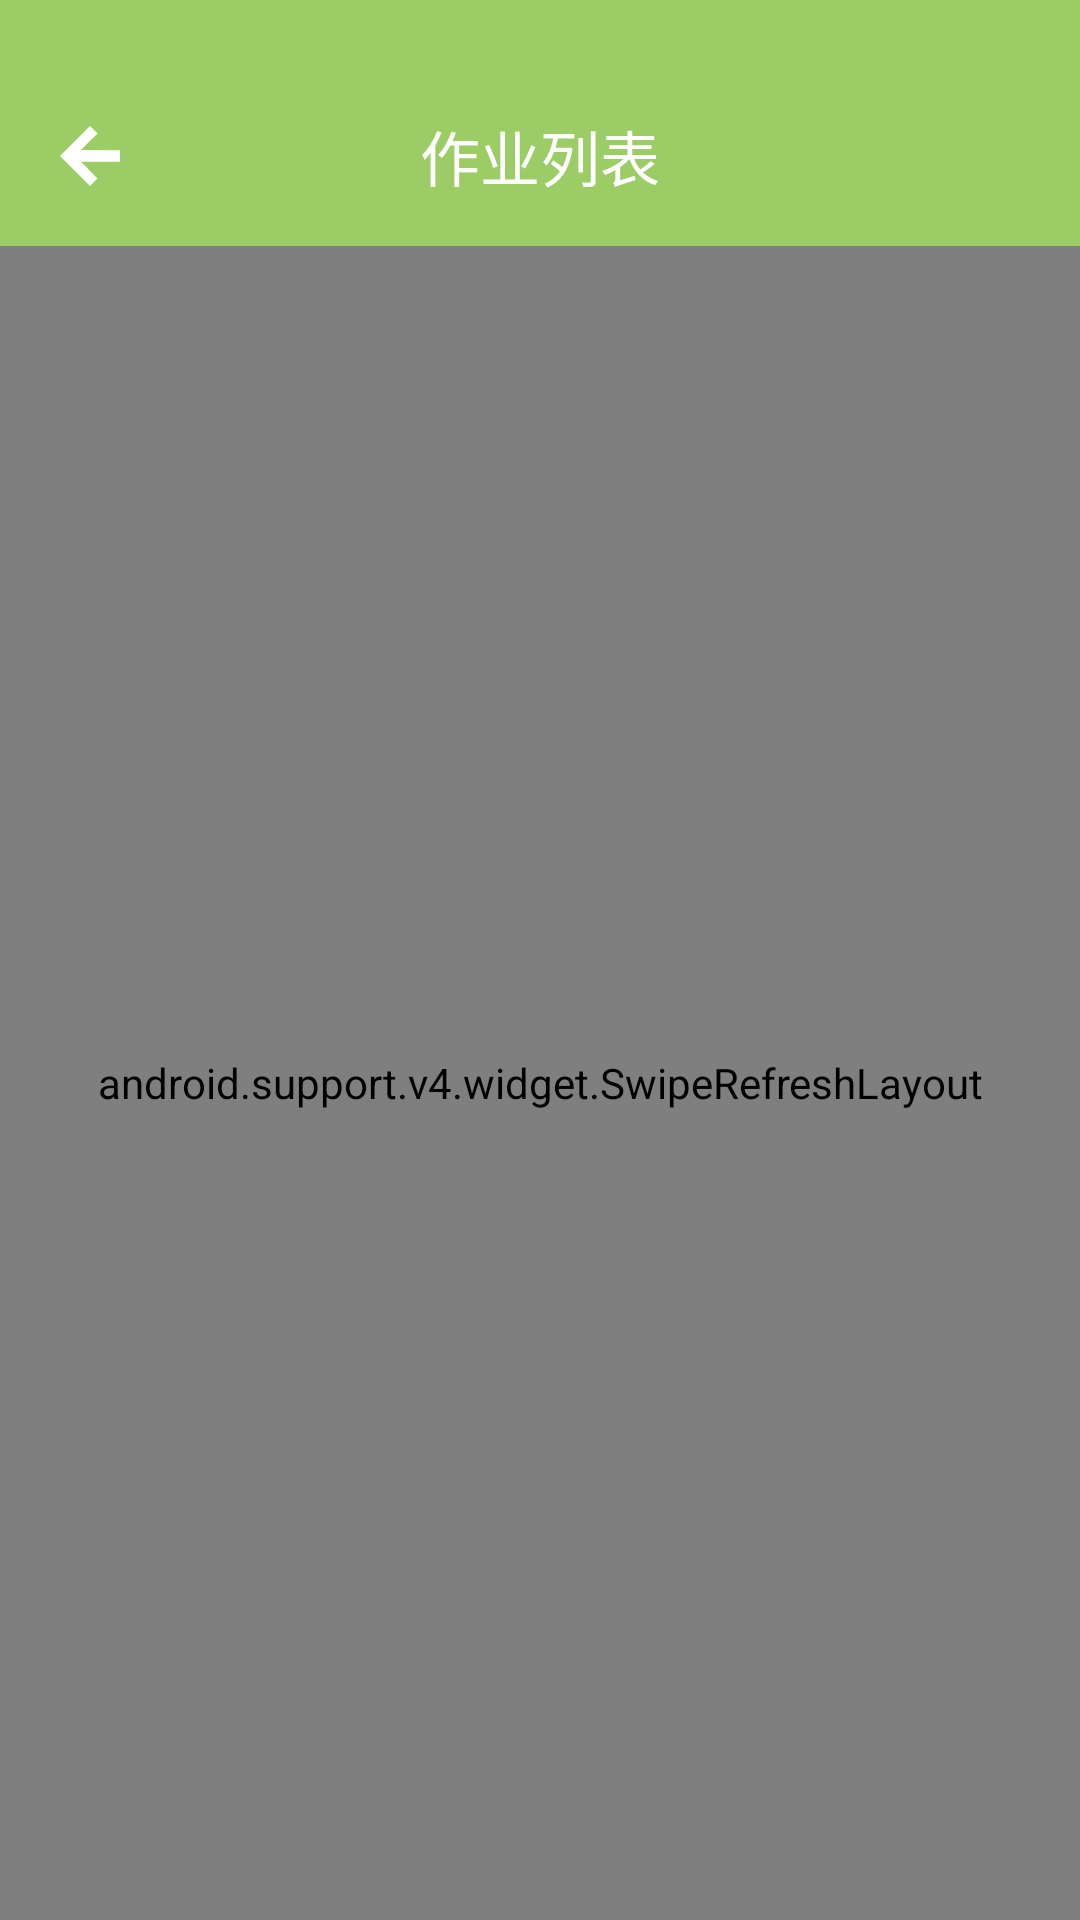

Icon click points for this 1080x1920 phone screenshot, format (x,y):
back: (90,156)
